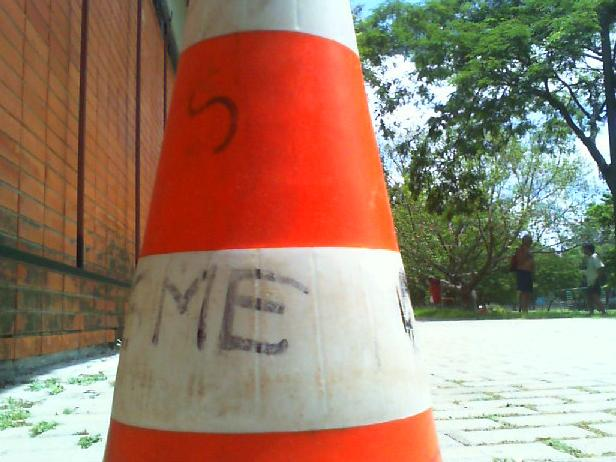0 cone: (99, 0, 444, 462)
